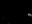person: (25, 12, 31, 17)
